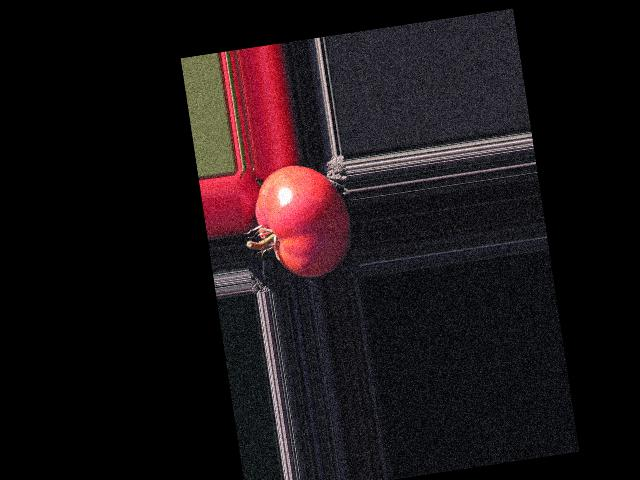tomato: (250, 158, 357, 284)
